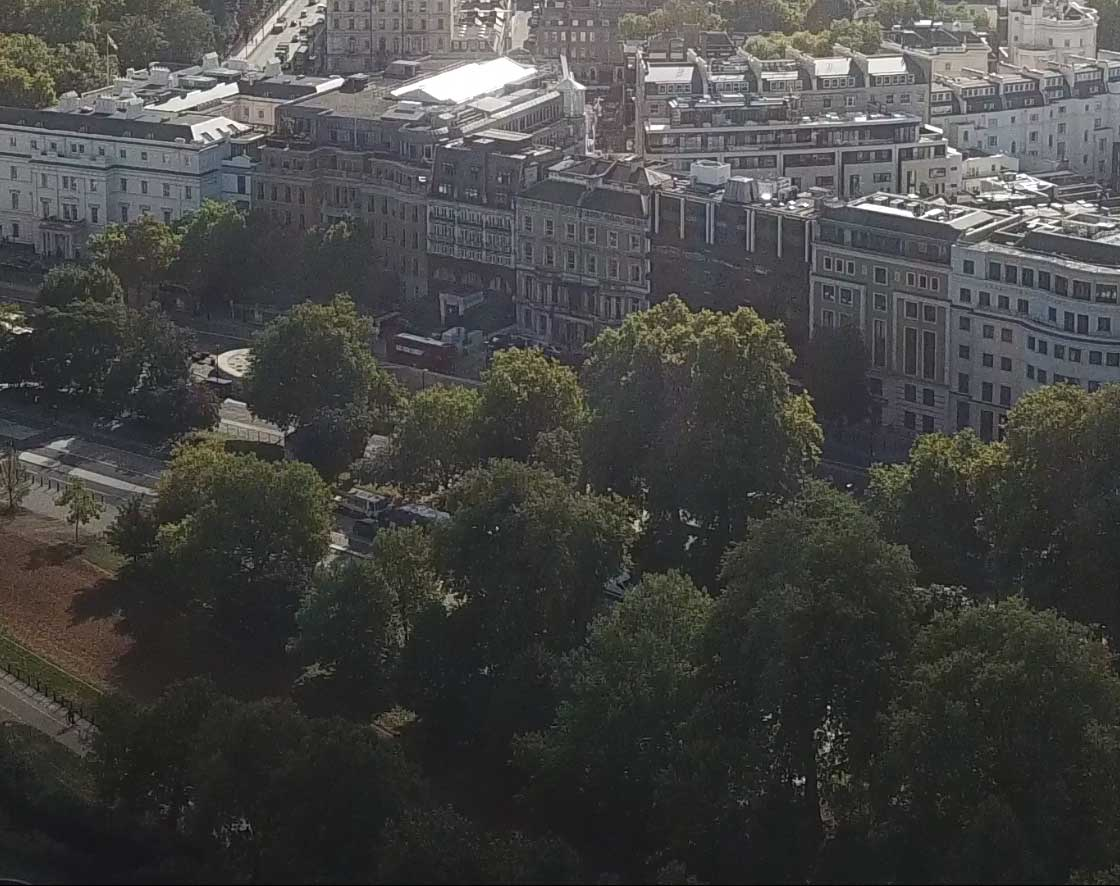building: (632, 162, 1120, 443), (260, 83, 585, 325), (630, 25, 1120, 178), (5, 94, 242, 264)
trees: (130, 328, 1119, 854)
